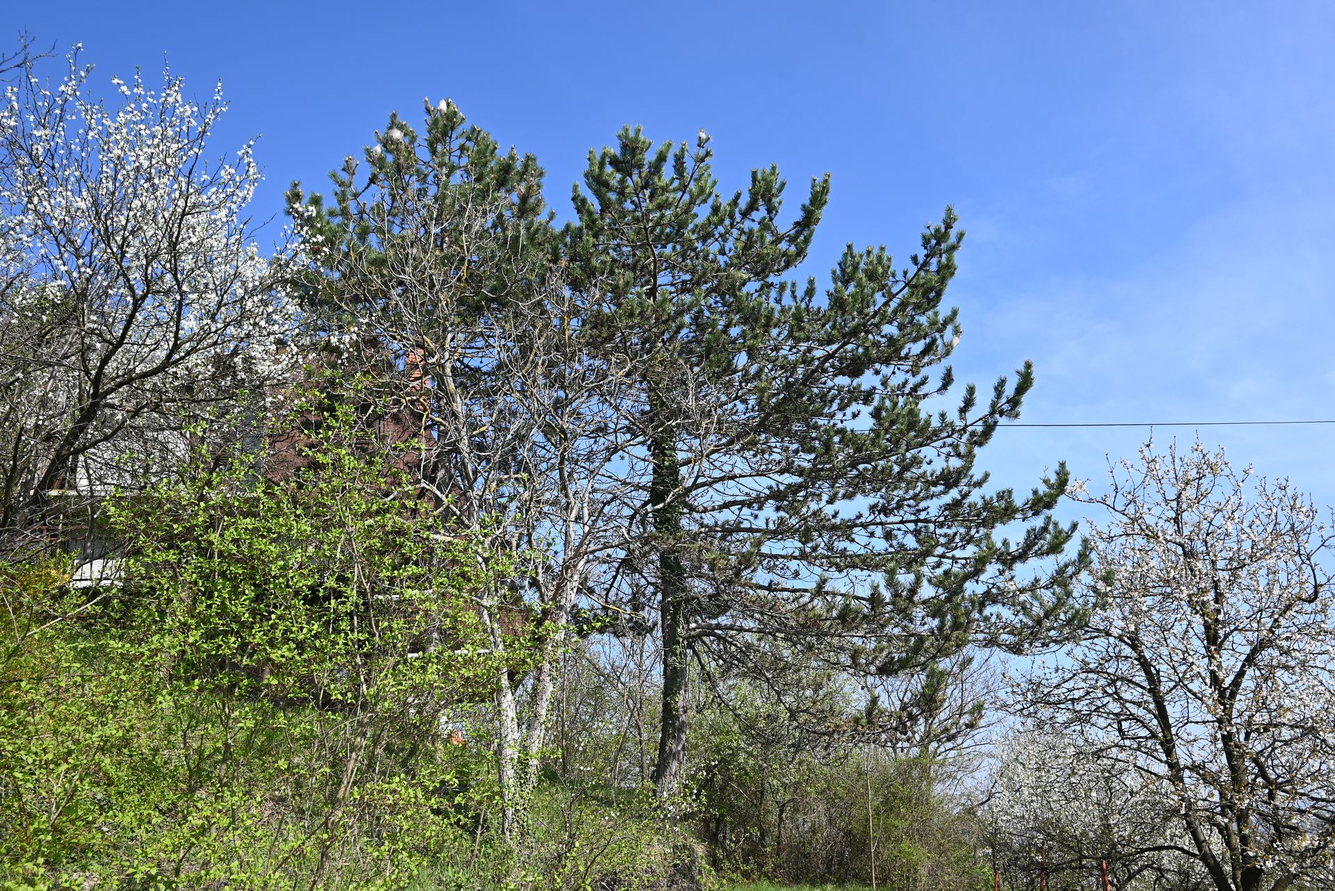thaumatopoea pityocampa jajno gnijezdo: (696, 129, 715, 147), (387, 125, 405, 143), (434, 99, 452, 115), (370, 142, 387, 158), (951, 332, 963, 351)
